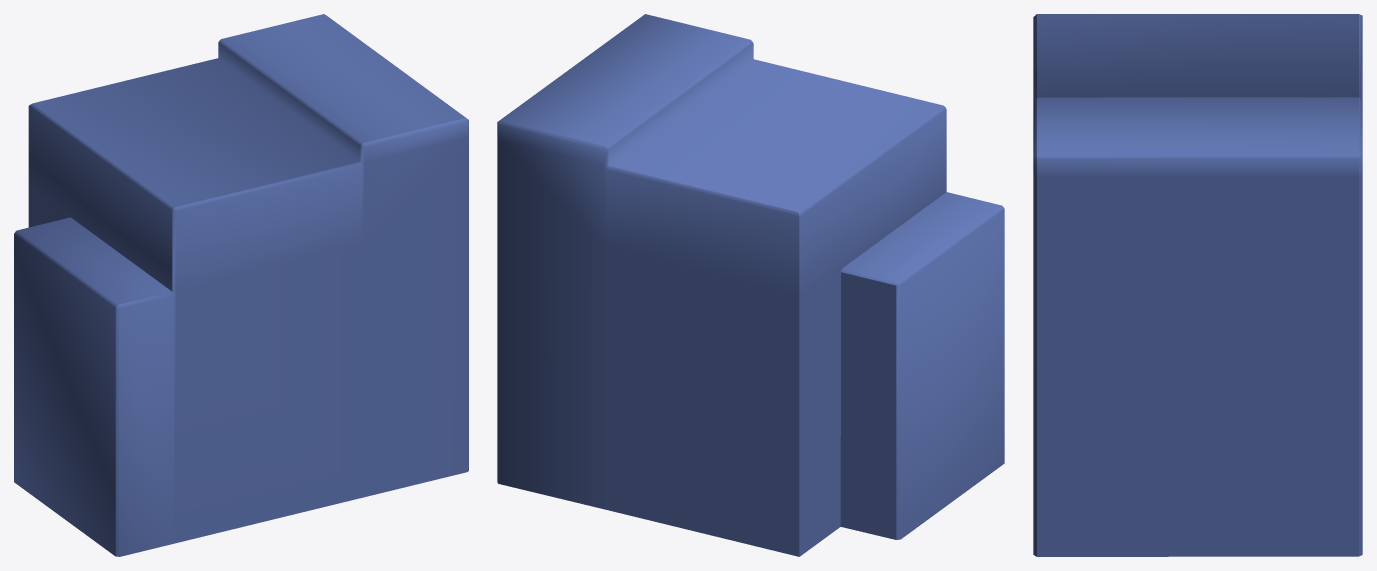
File: Books_C.FBX
3 views of the same model, side by side, from view 1: azimuth 30°, elevation 25°; view 2: azimuth 150°, elevation 25°; view 3: azimuth 270°, elevation 25° (orthographic). The views are drawn at different scales.
Visible parts, largest first — view 1: Books_C; view 2: Books_C; view 3: Books_C.
Boxes of the visible parts, left/top/right/bottom form: Books_C: left=14, top=14, right=468, bottom=556; Books_C: left=497, top=14, right=1004, bottom=556; Books_C: left=1033, top=14, right=1362, bottom=556.
Bounding box in the file's own units: 27.9 × 26.68 × 19.85.
